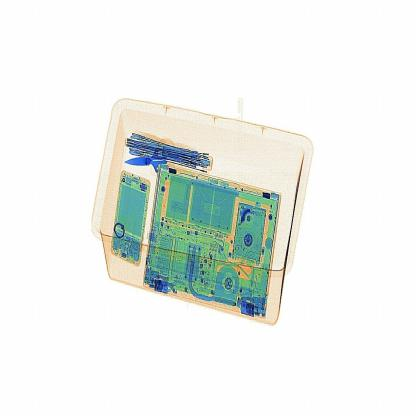gun: (121, 132, 187, 193)
